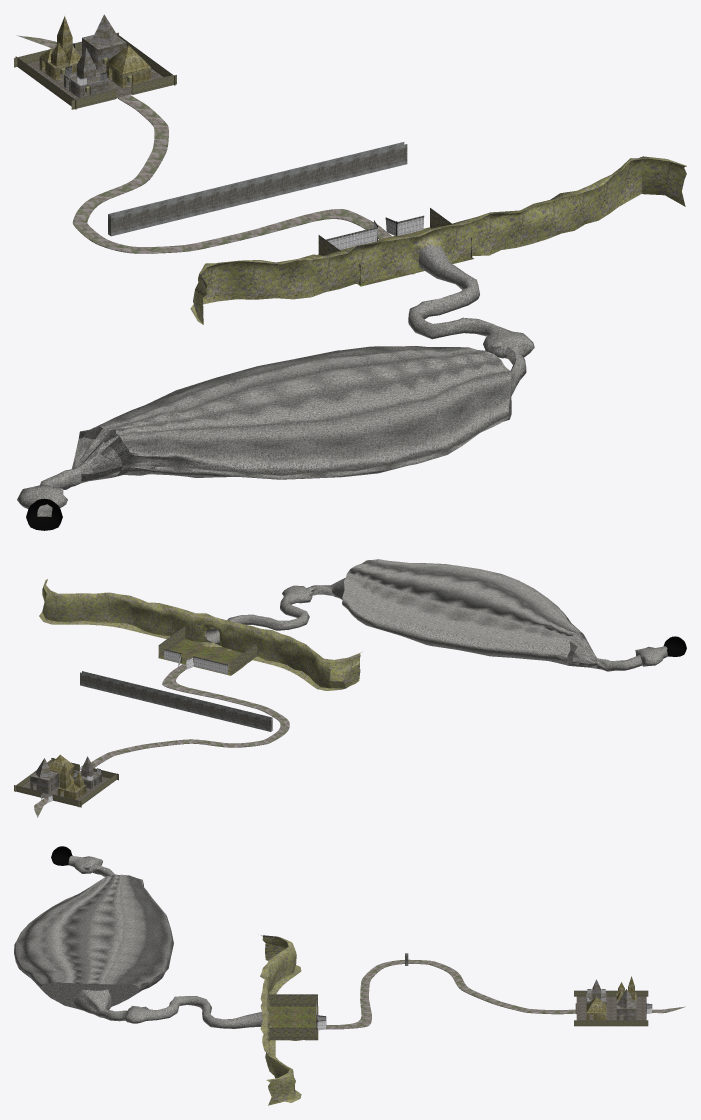
File: graybox draft 02 Scaled.FBX
The picture shows the model from 3 angles, top to bottom: view 1: azimuth 30°, elevation 25°; view 2: azimuth 150°, elevation 25°; view 3: azimuth 270°, elevation 25°; orthographic projection. The views are drawn at different scales.
Parts seen in each view (by area): view 1: Cylinder001, cliff face, Plane019, Plane020, cave exit, Line009, starting room cave, Plane025; view 2: Cylinder001, cliff face, Plane019, Plane020, Line009, cave exit, Plane001, starting room cave; view 3: Cylinder001, cliff face, cave exit, Plane020, Line009, Plane001, starting room cave, Plane003, Plane002, Plane023.
Part boxes in pixels (x1,y1,x2,y2): Cylinder001: (40, 346, 511, 489); cliff face: (190, 156, 686, 324); Plane019: (108, 142, 407, 236); Plane020: (27, 14, 162, 98); cave exit: (408, 244, 534, 396); Line009: (72, 95, 391, 253); starting room cave: (17, 484, 67, 530); Plane025: (71, 75, 176, 109); Cylinder001: (342, 559, 642, 671); cliff face: (39, 579, 361, 690); Plane019: (80, 671, 272, 731); Plane020: (22, 754, 109, 800); Line009: (91, 664, 289, 768); cave exit: (205, 578, 345, 642); Plane001: (158, 639, 255, 675); starting room cave: (635, 636, 686, 666); Cylinder001: (14, 864, 173, 1008); cliff face: (260, 935, 301, 1105); cave exit: (74, 989, 263, 1028); Plane020: (576, 976, 646, 1020); Line009: (326, 959, 575, 1029); Plane001: (268, 1006, 318, 1040); starting room cave: (51, 846, 102, 873); Plane003: (268, 1027, 317, 1039); Plane002: (269, 994, 317, 1006); Plane023: (574, 1020, 648, 1026).
Size of the model in its own units: 208690 by 16376 by 239986.
